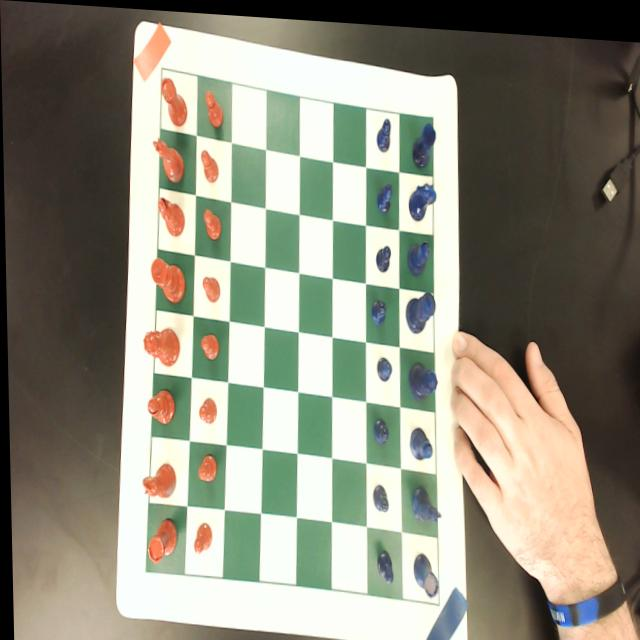B: (407, 420, 432, 456), (406, 235, 430, 270)
K: (404, 285, 434, 329)
N: (407, 177, 438, 218), (409, 480, 440, 519)
P: (373, 544, 392, 580), (375, 110, 392, 149), (370, 477, 388, 509), (374, 239, 391, 270), (376, 177, 392, 209), (371, 412, 388, 441), (370, 293, 386, 321), (375, 350, 391, 377)
Q: (406, 355, 437, 397)
R: (410, 546, 437, 595), (410, 115, 437, 163)
b: (145, 385, 174, 425), (158, 195, 184, 236)
k: (149, 254, 186, 302)
n: (152, 133, 184, 181), (138, 459, 175, 497)
p: (204, 87, 223, 126), (201, 204, 222, 239), (191, 518, 211, 554), (195, 450, 216, 482), (200, 146, 218, 182), (196, 392, 216, 423), (199, 329, 218, 360), (201, 272, 220, 301)
q: (142, 324, 178, 366)
r: (143, 514, 176, 566), (159, 73, 188, 125)
